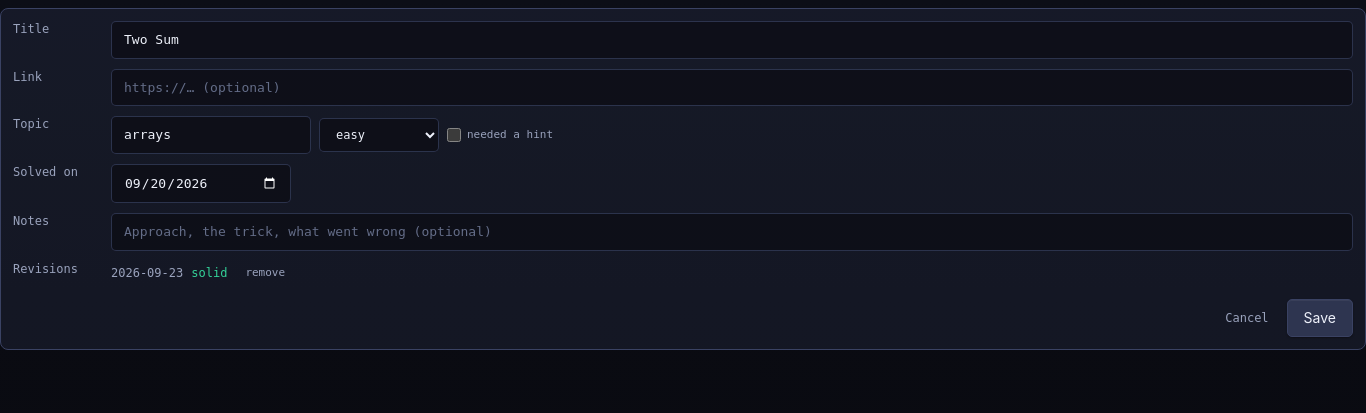
Test case: ProblemEditor › shows the server’s refusal and stays open
In the date field labelled "Solved on": (201, 183) [111,164,291,203], type "2026-09-25"
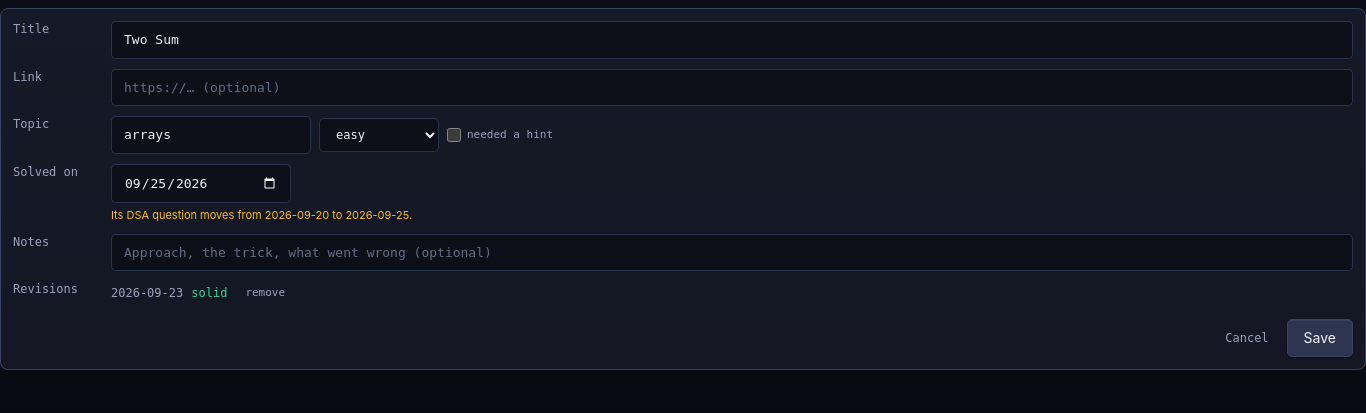
Click the button "Save": (1320, 338) [1287,319,1353,357]
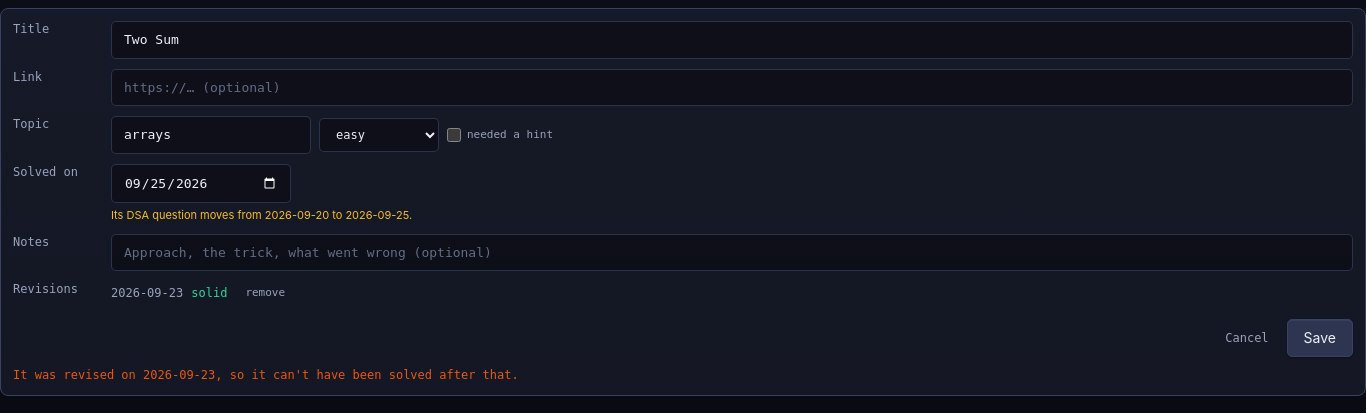
Result: the message "It was revised on 2026-09-23, so it can't have been solved after that." is shown at [13,368,519,382]
